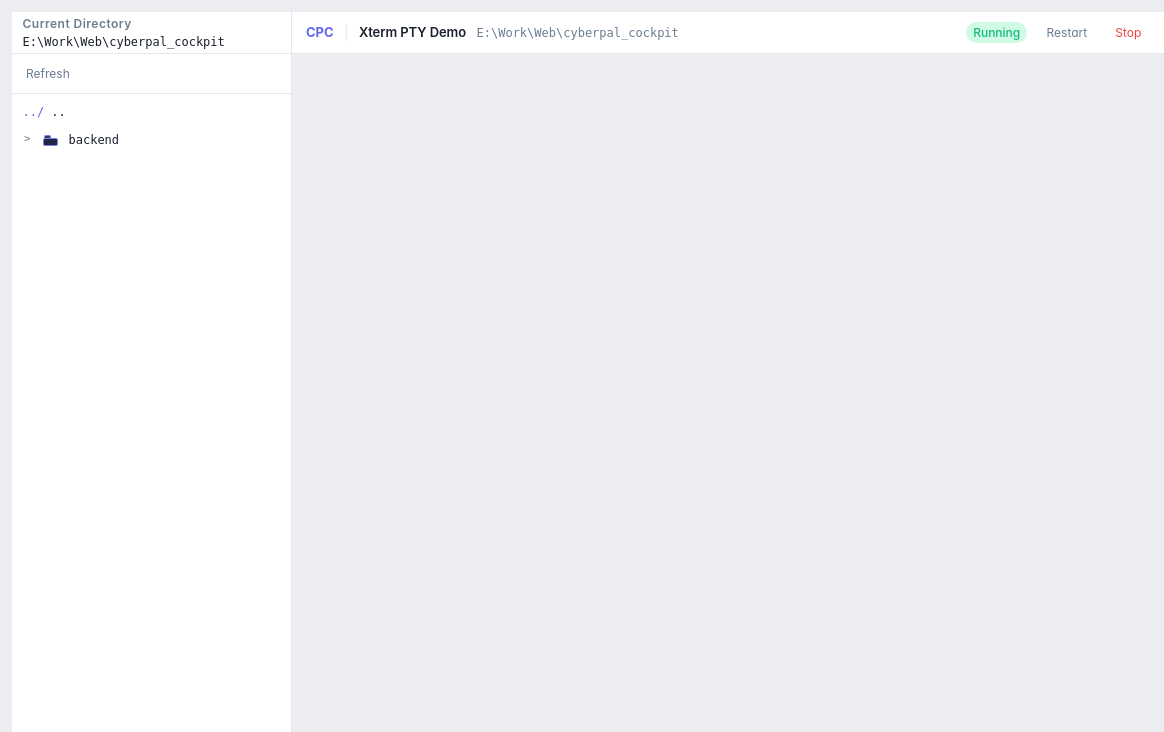
it: TerminalDemoPage › expands nested directories recursively
The width and height of the screenshot is (1164, 732).
Click the text ">": (27, 139) [24,132,31,145]
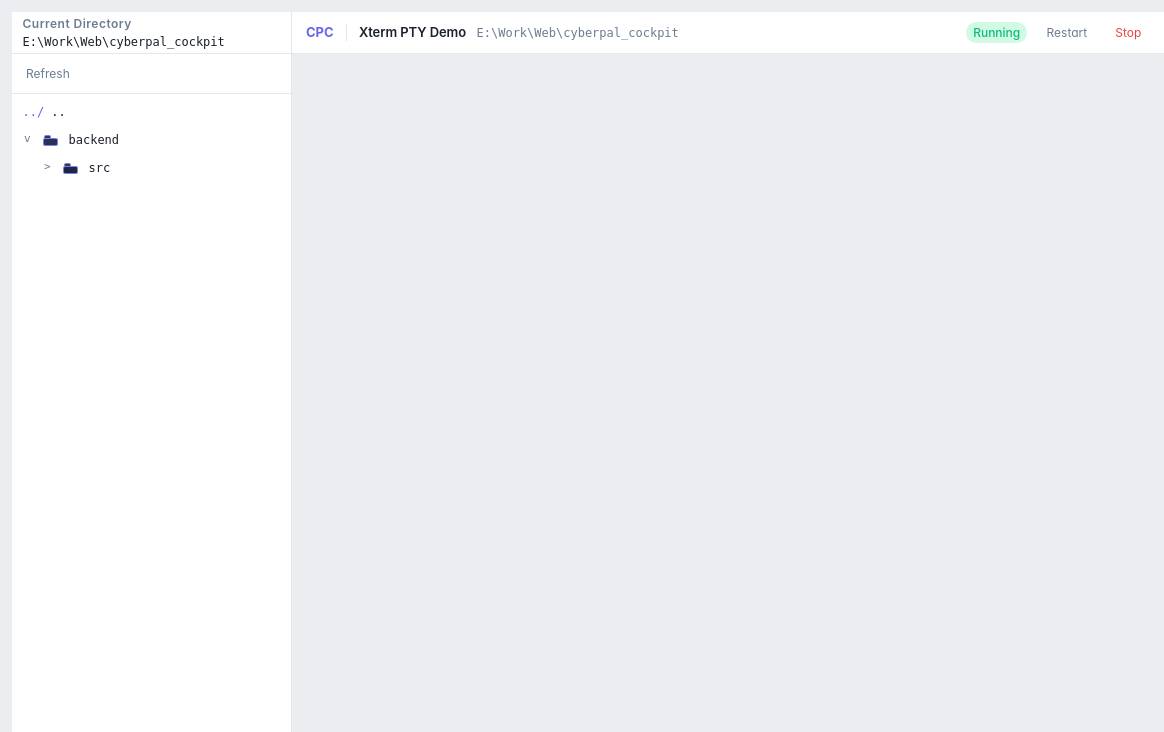
Click the text ">": (47, 167) [44,160,51,173]
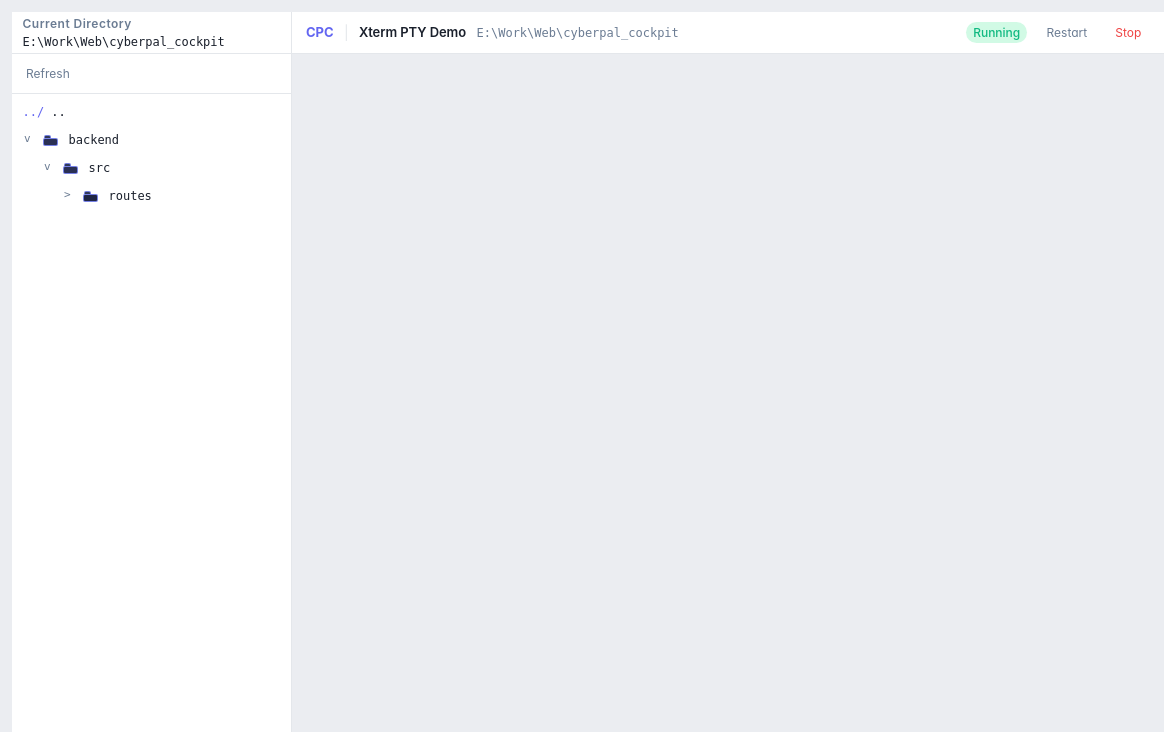
Expected: the button "> routes" is shown, [12,182,291,210]
